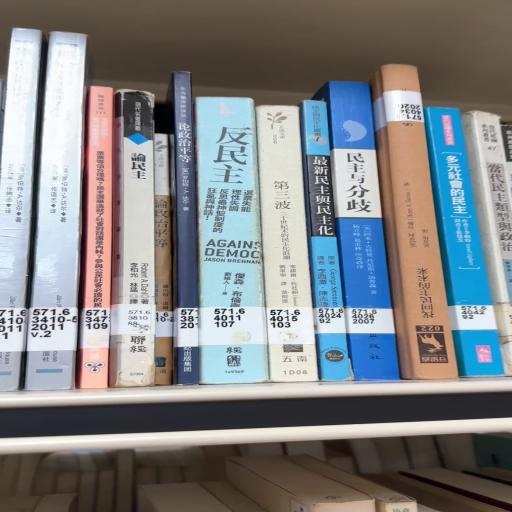book: (313, 81, 399, 380), (25, 31, 88, 390), (426, 107, 504, 377), (195, 97, 268, 384), (256, 106, 318, 381), (300, 100, 351, 380), (109, 89, 155, 387), (461, 111, 512, 375), (78, 86, 113, 389), (167, 71, 199, 385)
reverse: (371, 65, 458, 379)
